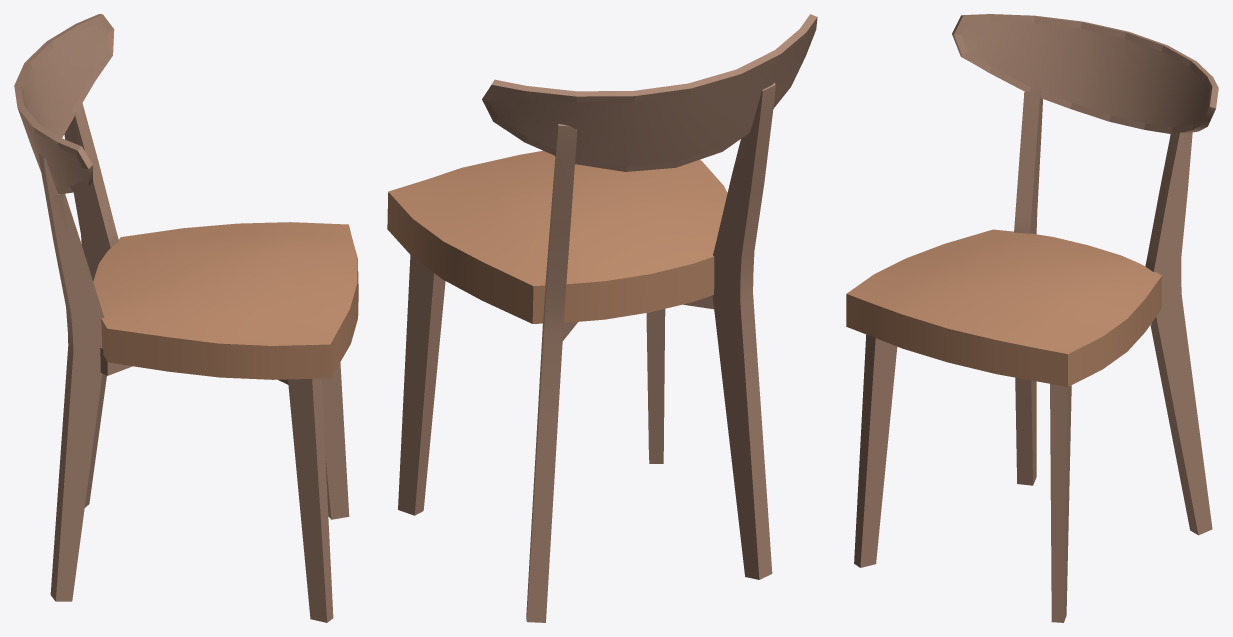
The model's file is SideChair.FBX.
The picture shows the model from 3 angles, left to right: view 1: azimuth 30°, elevation 25°; view 2: azimuth 150°, elevation 25°; view 3: azimuth 270°, elevation 25°; orthographic projection. The views are drawn at different scales.
Parts seen in each view (by area): view 1: Box009, Box003.001, Plane006, Box004, Box003; view 2: Box009, Plane006, Box003.001, Box004, Box003; view 3: Box009, Plane006, Box003, Box004, Box003.001.
Boxes of the visible parts, left/top/right/bottom form: Box009: left=93, top=222, right=358, bottom=379; Box003.001: left=38, top=151, right=104, bottom=601; Plane006: left=14, top=14, right=114, bottom=194; Box004: left=288, top=362, right=349, bottom=622; Box003: left=64, top=103, right=118, bottom=507; Box009: left=387, top=150, right=727, bottom=323; Plane006: left=482, top=14, right=817, bottom=171; Box003.001: left=712, top=82, right=775, bottom=579; Box004: left=398, top=255, right=665, bottom=515; Box003: left=526, top=124, right=577, bottom=622; Box009: left=846, top=229, right=1161, bottom=386; Plane006: left=952, top=14, right=1218, bottom=133; Box003: left=1145, top=132, right=1212, bottom=535; Box004: left=854, top=334, right=1071, bottom=622; Box003.001: left=1014, top=88, right=1042, bottom=485.
Bounding box in the file's own units: 55.39 × 76.24 × 55.96.
